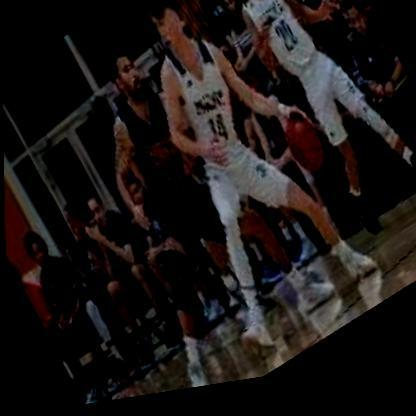basketball: (277, 117, 331, 189)
